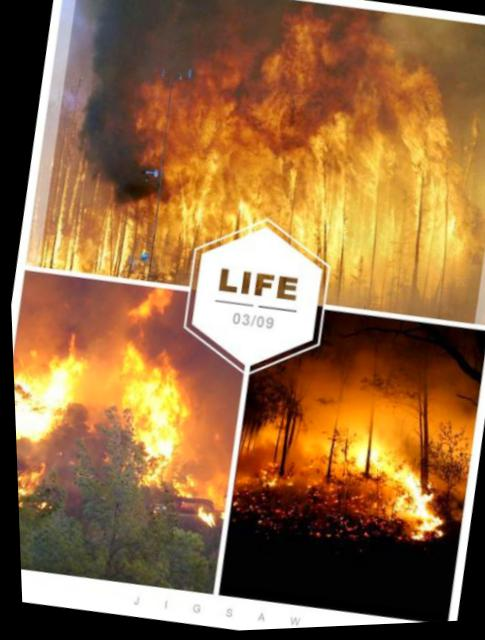fire: (40, 0, 483, 335), (321, 426, 453, 553), (97, 337, 191, 495), (10, 345, 79, 456)
